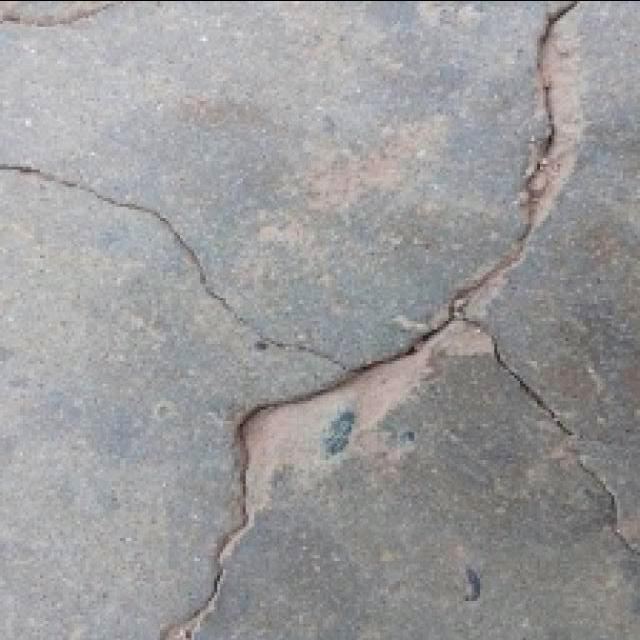SurfaceCrack: (146, 4, 596, 640), (0, 130, 382, 396)
